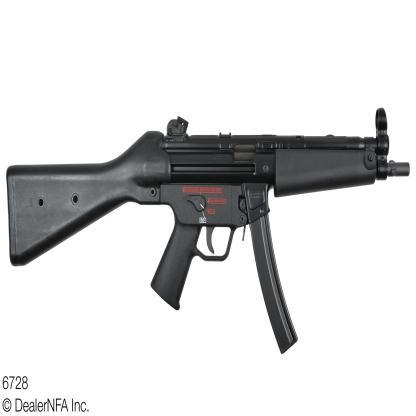Gun: (6, 106, 410, 354)
